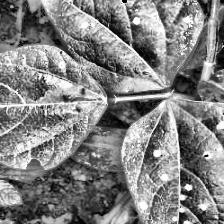Bean Rust: (22, 0, 206, 91), (118, 98, 224, 224), (0, 46, 105, 165)
